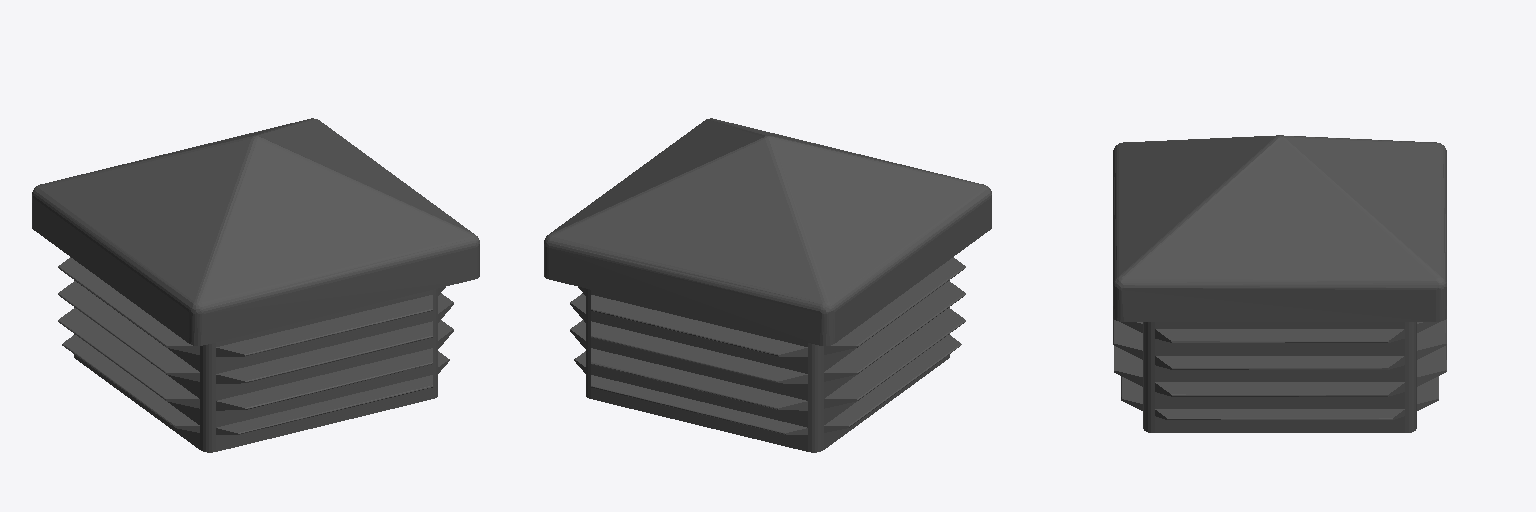
File: 60x60_inner_pyramid2.obj
3 renders of one model, left to right at view 1: azimuth 30°, elevation 25°; view 2: azimuth 150°, elevation 25°; view 3: azimuth 270°, elevation 25°, orthographic.
Parts seen in each view (by area): view 1: 60x60_inner_pyramid2; view 2: 60x60_inner_pyramid2; view 3: 60x60_inner_pyramid2.
Boxes of the visible parts, x1=… form: 60x60_inner_pyramid2: x1=32, y1=118, x2=479, y2=452; 60x60_inner_pyramid2: x1=544, y1=118, x2=991, y2=452; 60x60_inner_pyramid2: x1=1113, y1=135, x2=1446, y2=432.
Bounding box in the file's own units: 60 × 47.35 × 60.